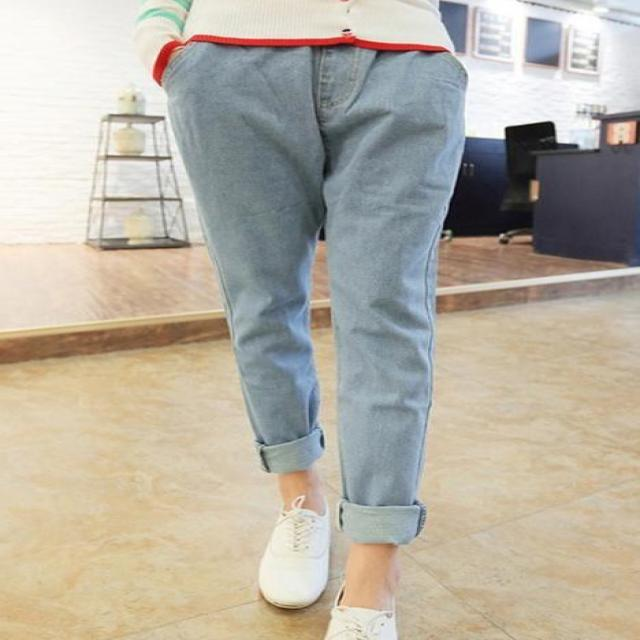trousers: (134, 30, 586, 560)
